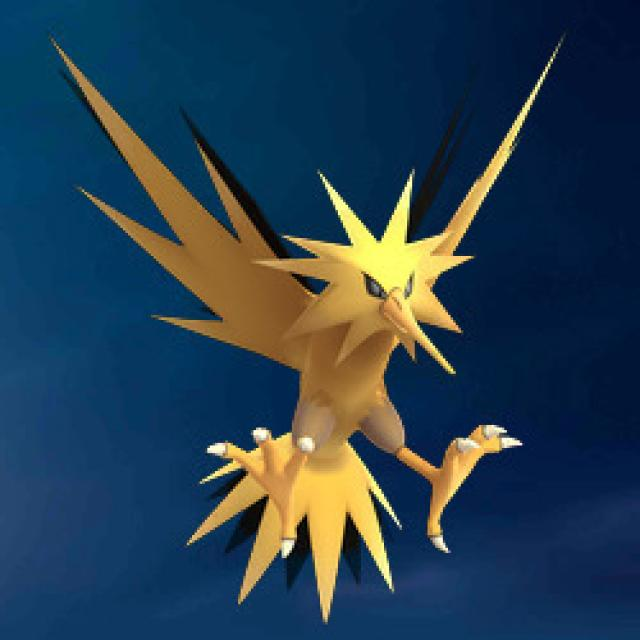Zapdos: (141, 101, 537, 578)
